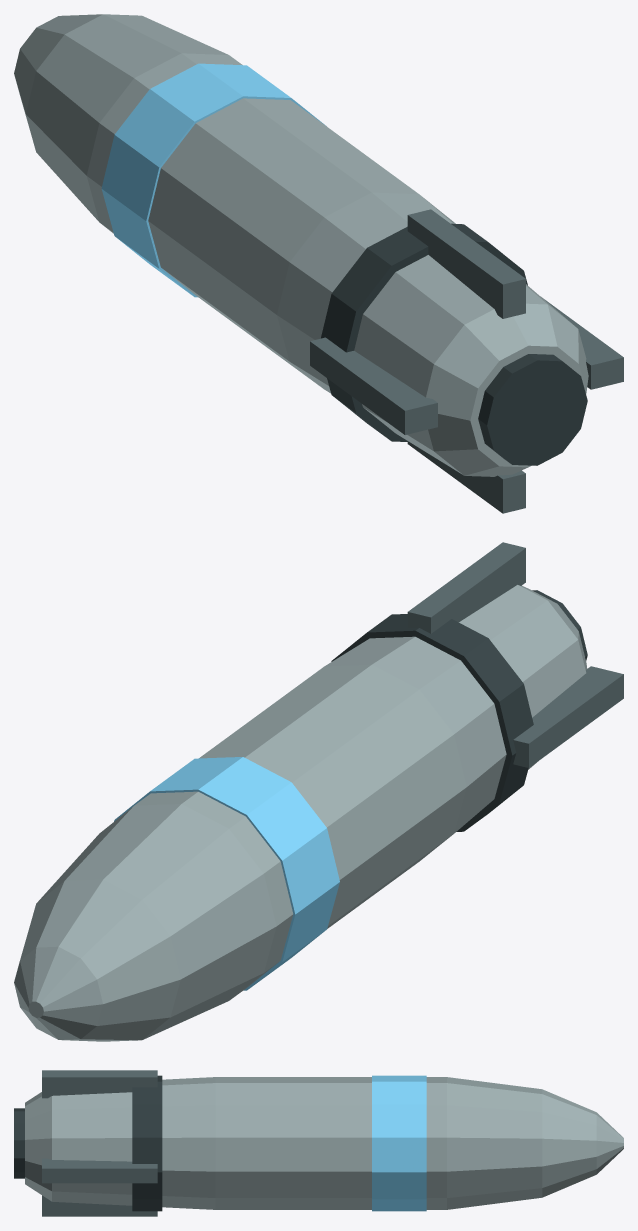
File: PRJ_EscortAswRocket.fbx
3 renders of one model, top to bottom at view 1: azimuth 30°, elevation 25°; view 2: azimuth 150°, elevation 25°; view 3: azimuth 270°, elevation 25°, orthographic. The views are drawn at different scales.
Parts seen in each view (by area): view 1: RocketBody, ASWIdentificationBand, ExhaustNozzle, MotorBand, FoldedTailFin.001, FoldedTailFin.002, FoldedTailFin.003, FoldedTailFin; view 2: RocketBody, ASWIdentificationBand, MotorBand, FoldedTailFin.001, FoldedTailFin.002; view 3: RocketBody, ASWIdentificationBand, MotorBand, FoldedTailFin.001, FoldedTailFin, FoldedTailFin.003, ExhaustNozzle.
Boxes of the visible parts, left/top/right/bottom form: RocketBody: left=14, top=14, right=588, bottom=476; ASWIdentificationBand: left=101, top=63, right=326, bottom=297; ExhaustNozzle: left=478, top=354, right=587, bottom=465; MotorBand: left=321, top=223, right=527, bottom=441; FoldedTailFin.001: left=407, top=209, right=525, bottom=318; FoldedTailFin.002: left=310, top=337, right=437, bottom=434; FoldedTailFin.003: left=407, top=442, right=525, bottom=513; FoldedTailFin: left=541, top=297, right=623, bottom=389; RocketBody: left=14, top=585, right=587, bottom=1041; ASWIdentificationBand: left=114, top=757, right=339, bottom=990; MotorBand: left=331, top=614, right=533, bottom=831; FoldedTailFin.001: left=407, top=542, right=525, bottom=633; FoldedTailFin.002: left=513, top=666, right=623, bottom=767; RocketBody: left=25, top=1077, right=623, bottom=1209; ASWIdentificationBand: left=372, top=1075, right=426, bottom=1211; MotorBand: left=132, top=1075, right=162, bottom=1211; FoldedTailFin.001: left=42, top=1070, right=157, bottom=1098; FoldedTailFin: left=42, top=1158, right=157, bottom=1183; FoldedTailFin.003: left=42, top=1195, right=157, bottom=1216; ExhaustNozzle: left=14, top=1108, right=24, bottom=1178.
Size of the model in its own units: 11.3 by 11.3 by 44.8.
